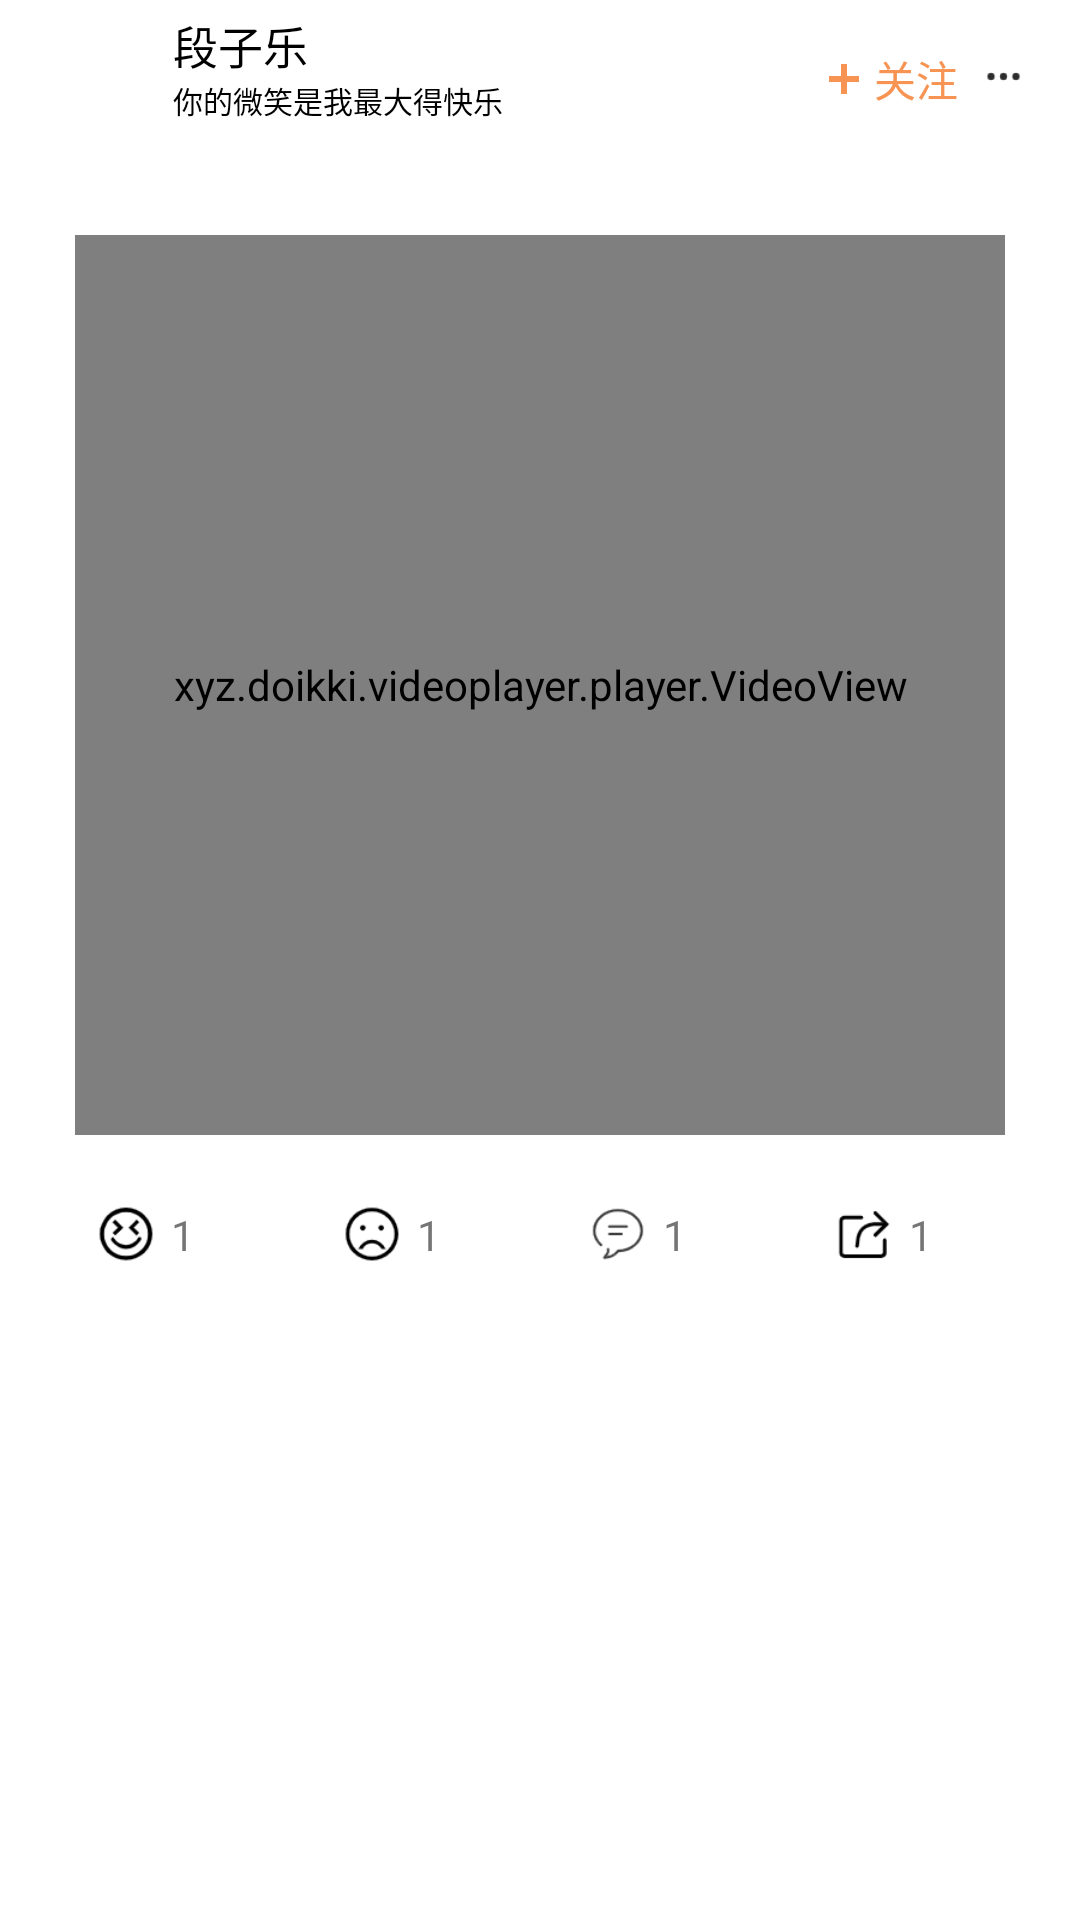

Icon click points for this 1080*1920 phone screenshot, format [x,y]:
forward: [864,1234]
hate: [372,1234]
like: [126,1234]
more: [1003,76]
